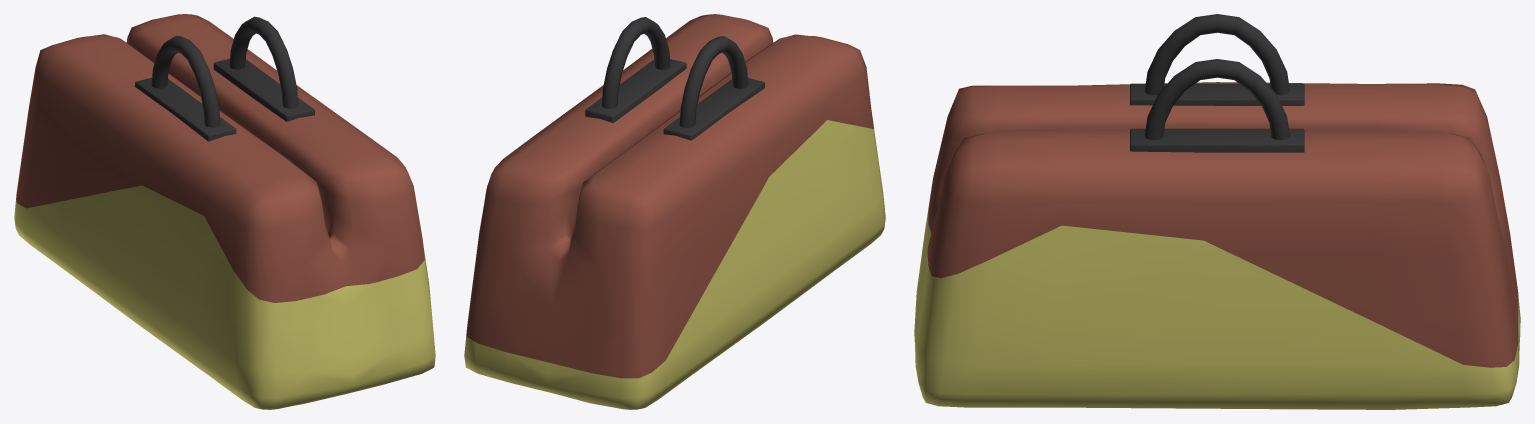
The model's file is Toolbag.fbx.
3 views of the same model, side by side, from view 1: azimuth 30°, elevation 25°; view 2: azimuth 150°, elevation 25°; view 3: azimuth 270°, elevation 25° (orthographic). The views are drawn at different scales.
Visible parts, largest first — view 1: Cube; view 2: Cube; view 3: Cube.
Boxes of the visible parts, bbox=[...] form: Cube: bbox=[14, 14, 435, 409]; Cube: bbox=[464, 14, 885, 409]; Cube: bbox=[914, 14, 1520, 409].
Size of the model in its own units: 40.73 by 57.55 by 94.97.
